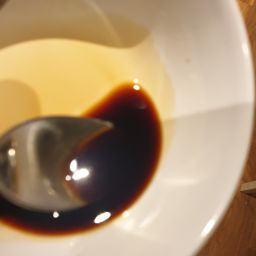Soy Sauce: (9, 93, 158, 240)
